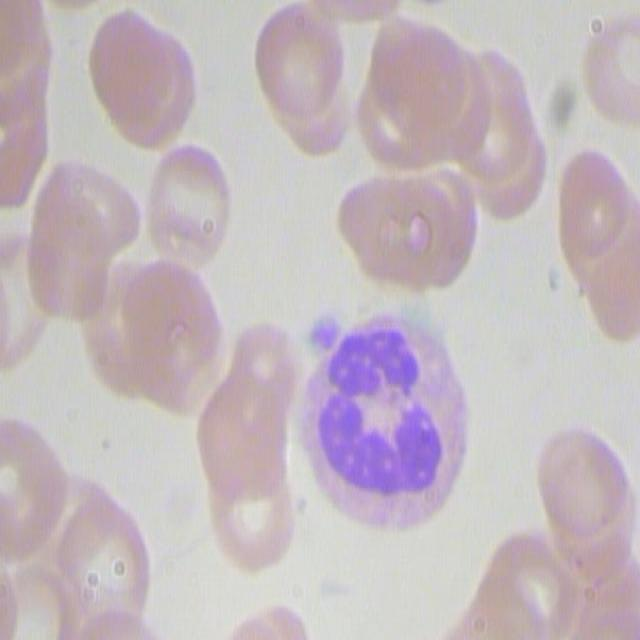RBC: (85, 259, 235, 427), (199, 345, 299, 574), (340, 158, 482, 299), (29, 160, 142, 332), (249, 1, 365, 160), (453, 46, 554, 225), (42, 486, 156, 639), (452, 522, 588, 640), (532, 421, 636, 575), (90, 6, 201, 150), (143, 138, 241, 270), (552, 143, 638, 274), (577, 4, 640, 126), (570, 236, 640, 340)
WBC: (304, 298, 477, 546)
platelets: (299, 305, 344, 365)
